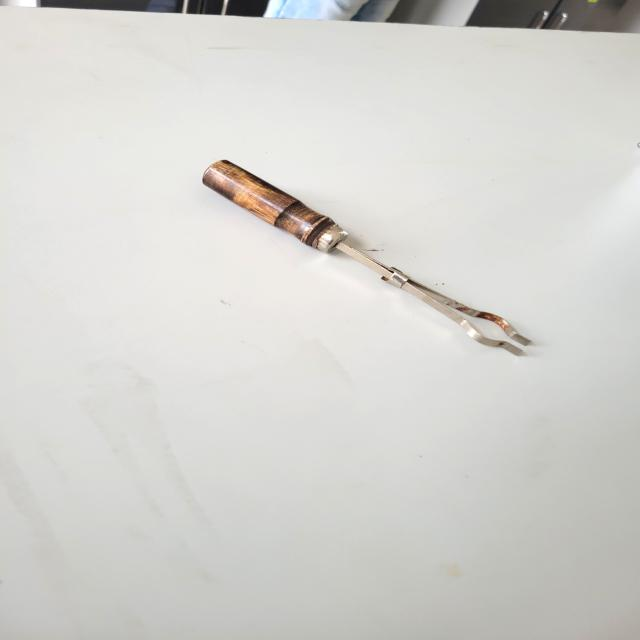TestTube_Holder: (187, 144, 540, 371)
